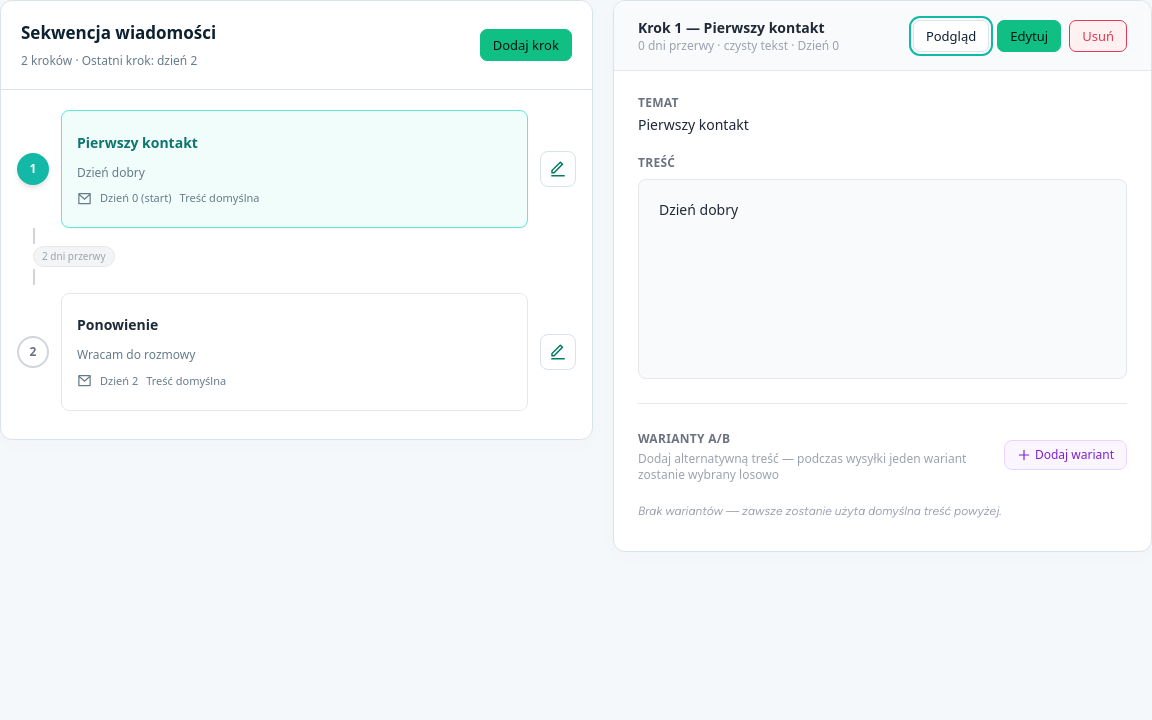
uses an accessible preview dialog and restores focus after Escape
The image size is (1152, 720).
Click the button "Podgląd". click: x=951, y=36
box: [913, 20, 989, 52]
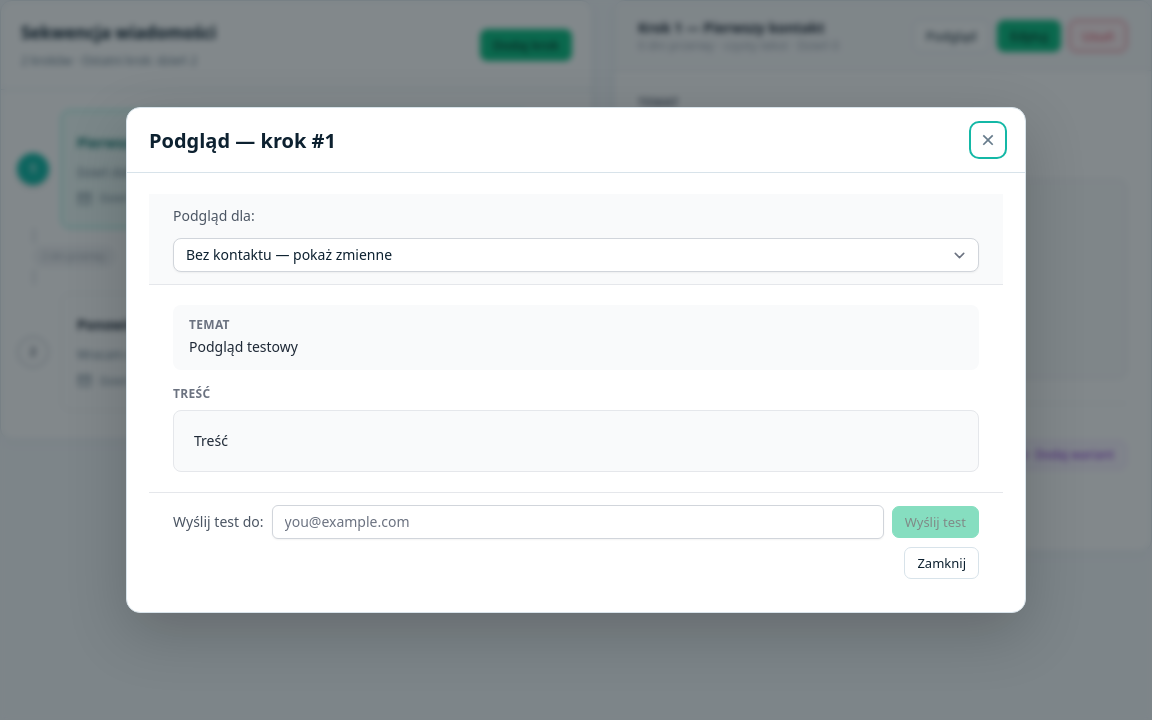
Now the text "Podgląd testowy" is shown, box [189, 337, 298, 356]
Now the dropdown named "Podgląd dla kontaktu" is shown, box [173, 238, 979, 272]
Press Escape in the button named "Zamknij okno", box [973, 125, 1003, 155]
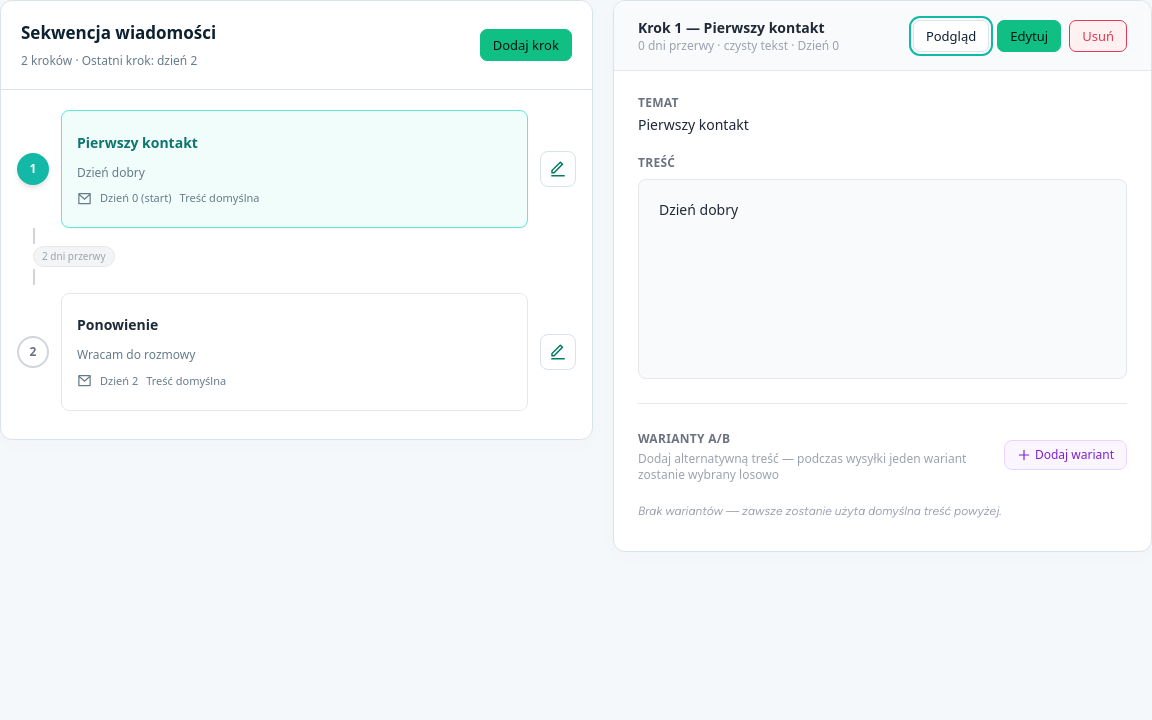
Now the dialog is gone
